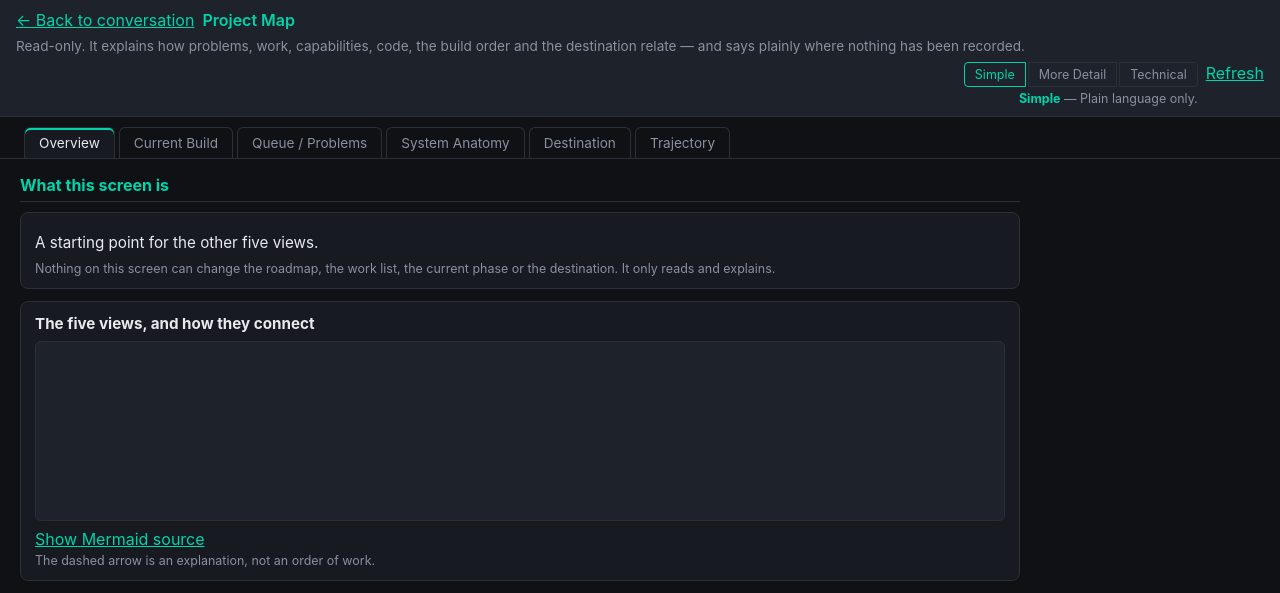
Scenario: ProjectMap — Queue / Problems › distinguishes the 56 untriaged items from classified work, and triages nothing
Click the tab "Queue / Problems": [310, 142] box [237, 127, 382, 158]
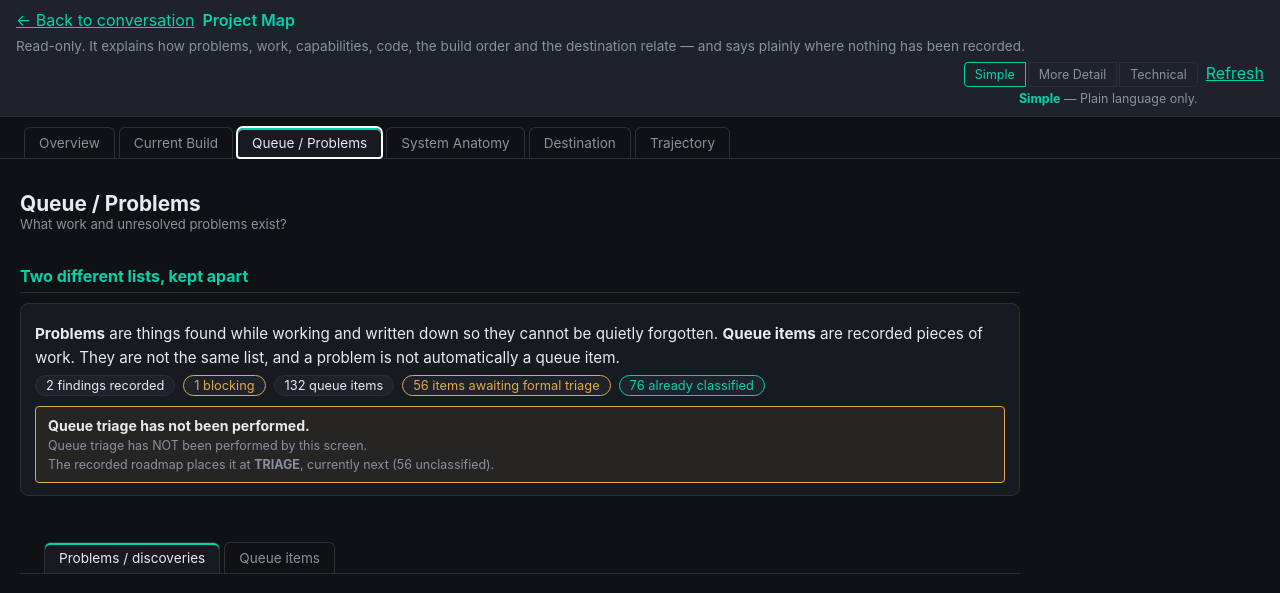
Check: the text "56 items awaiting formal triage" is shown, box [402, 375, 611, 396]
Check: the text "76 already classified" is shown, box [619, 375, 765, 396]
Check: the text "Queue triage has not been performed." is shown, box [48, 417, 310, 434]
